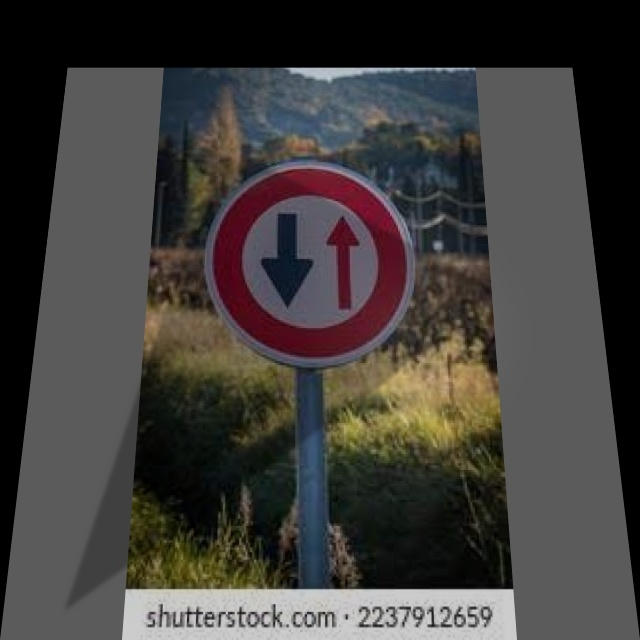Mandatory_Two_Way_Traffic: (201, 155, 434, 367)
